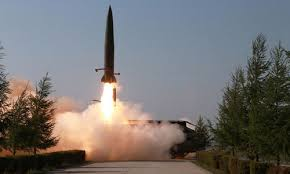ten_lua: (98, 4, 123, 90)
